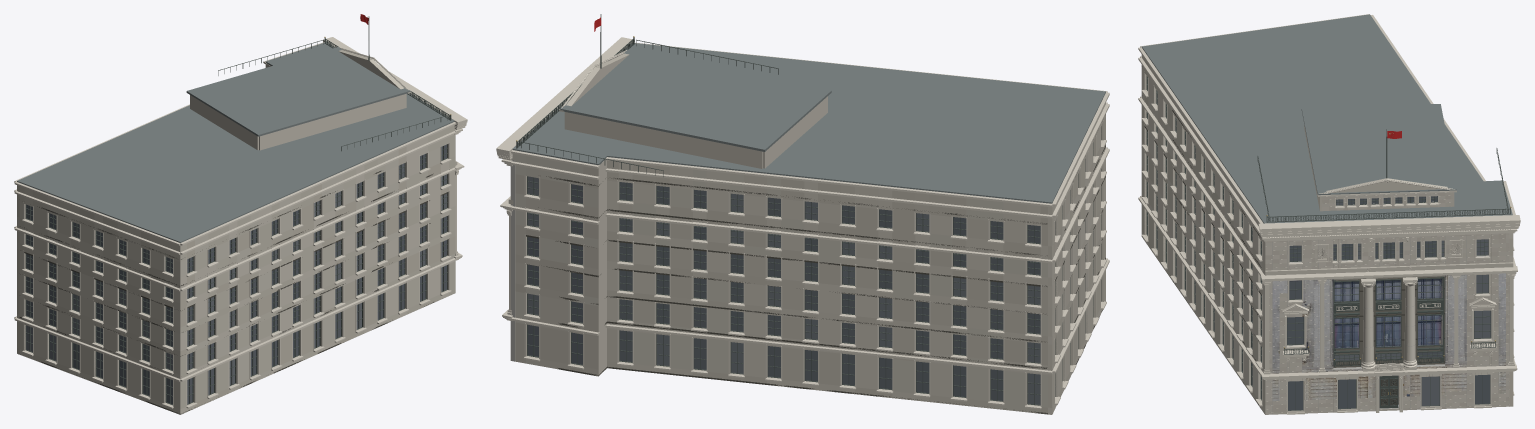
File: bund18-east-door-cartouche-web.glb
3 views of the same model, side by side, from view 1: azimuth 30°, elevation 25°; view 2: azimuth 150°, elevation 25°; view 3: azimuth 270°, elevation 25° (orthographic). The views are drawn at different scales.
Parts seen in each view (by area): view 1: object 1; view 2: object 1; view 3: object 1.
Part boxes in pixels (x1,y1,x2,y2): object 1: (14, 14, 467, 414); object 1: (496, 14, 1109, 414); object 1: (1138, 14, 1520, 414).
Bounding box in the file's own units: 61.75 × 35.72 × 46.03.
Materials: 22 (7 with a texture image).
